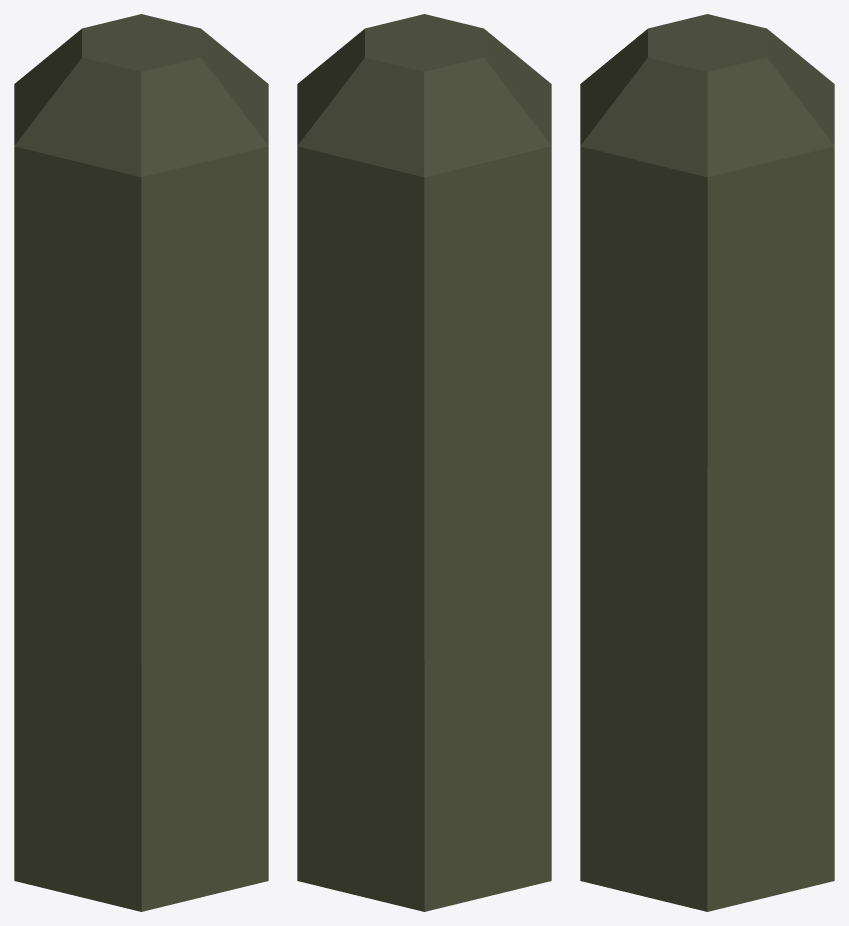
Rendered from TB_D_Env_CactusA_C.FBX.
The picture shows the model from 3 angles, left to right: view 1: azimuth 30°, elevation 25°; view 2: azimuth 150°, elevation 25°; view 3: azimuth 270°, elevation 25°; orthographic projection.
Visible parts, largest first — view 1: TB_D_Env_CactusA_C; view 2: TB_D_Env_CactusA_C; view 3: TB_D_Env_CactusA_C.
Boxes of the visible parts, x1,y1,x2,y2 form: TB_D_Env_CactusA_C: (14,14,268,911); TB_D_Env_CactusA_C: (297,14,551,911); TB_D_Env_CactusA_C: (580,14,834,911).
Size of the model in its own units: 0.5608 by 1.7 by 0.4857.
